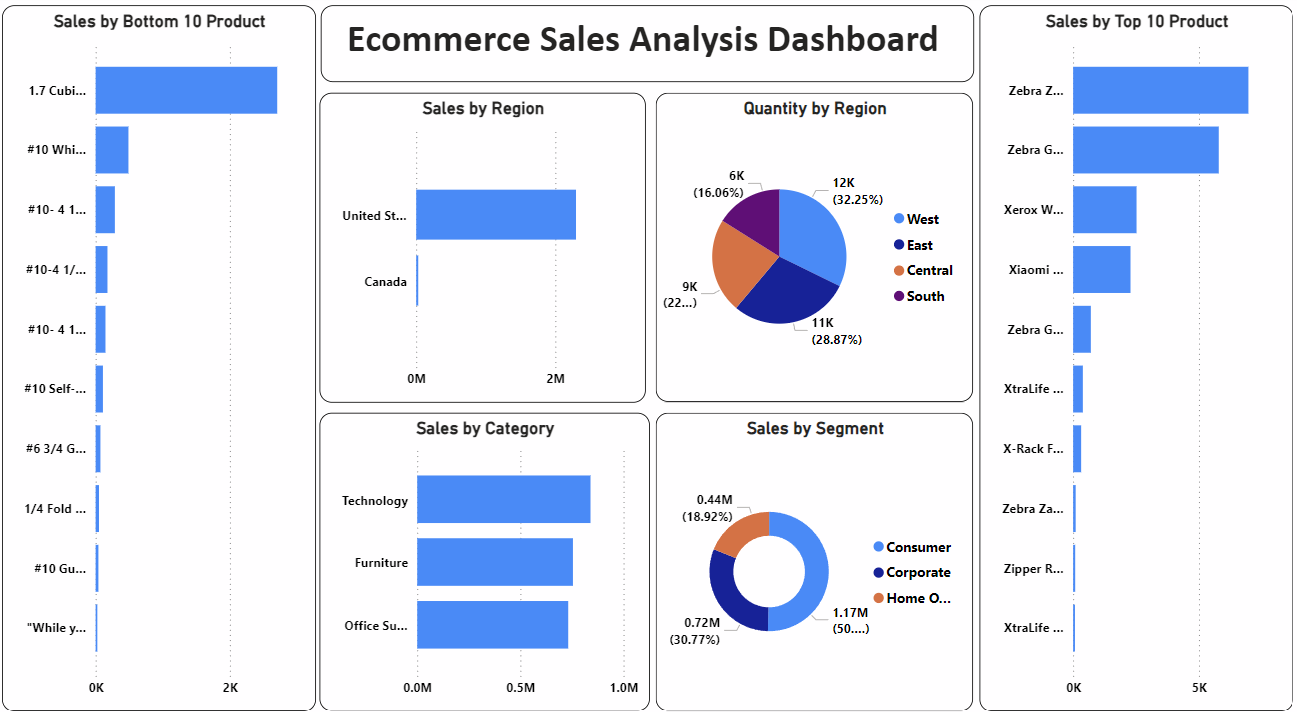

Layout of this report page (visuals, bound fields, positions):
{"tool":"powerbi","page":{"name":"Page 2","canvas":[1280,720],"ordinal":1},"visuals":[{"type":"barChart","title":"Sales by Region","fields":{"Y":["Sum(samplesuperstore_Cleaned.Sales)"],"Category":["samplesuperstore_Cleaned.Country/Region"]},"box":[320.4,96.6,319.2,303.3],"z":0},{"type":"barChart","title":"Sales by Category","fields":{"Y":["Sum(samplesuperstore_Cleaned.Sales)"],"Category":["samplesuperstore_Cleaned.Category"]},"box":[320.4,409.6,322.8,292.3],"z":1000},{"type":"barChart","title":"Sales by Top 10 Product","fields":{"Category":["samplesuperstore_Cleaned.Product Name"],"Y":["Sum(samplesuperstore_Cleaned.Sales)"]},"box":[966,11,306.9,690.9],"z":2000},{"type":"barChart","title":"Sales by Bottom 10 Product","fields":{"Y":["Sum(samplesuperstore_Cleaned.Sales)"],"Category":["samplesuperstore_Cleaned.Product Name"]},"box":[9.8,11,306.9,690.9],"z":3000},{"type":"donutChart","title":"Sales by Segment","fields":{"Y":["Sum(samplesuperstore_Cleaned.Sales)"],"Category":["samplesuperstore_Cleaned.Segment"]},"box":[649.3,409.6,310.6,292.3],"z":4000},{"type":"pieChart","title":"Quantity by Region","fields":{"Y":["Sum(samplesuperstore_Cleaned.Quantity)"],"Category":["samplesuperstore_Cleaned.Region"]},"box":[649.3,96.6,310.6,302],"z":5000},{"type":"textbox","box":[321.1,11,639.5,75.5],"z":6000}]}

Visuals, with their boxes in screenshot pixels (x1, y1, x2, y2), scaled from the page's 1280x720 canvas onto the 1297x712 screenshot:
"Sales by Region" barChart: bbox=(325, 96, 648, 395)
"Sales by Category" barChart: bbox=(325, 405, 652, 694)
"Sales by Top 10 Product" barChart: bbox=(979, 11, 1290, 694)
"Sales by Bottom 10 Product" barChart: bbox=(10, 11, 321, 694)
"Sales by Segment" donutChart: bbox=(658, 405, 973, 694)
"Quantity by Region" pieChart: bbox=(658, 96, 973, 394)
textbox: bbox=(325, 11, 973, 86)
